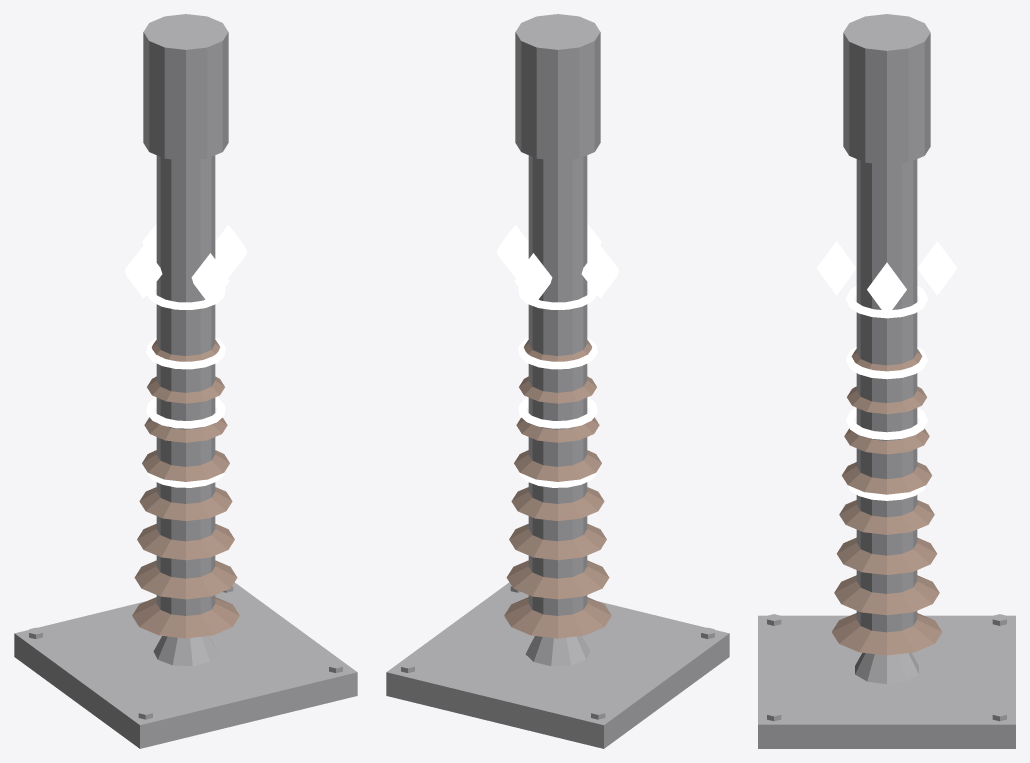
Rendered from drill_bit_mythic.glb.
3 views of the same model, side by side, from view 1: azimuth 30°, elevation 25°; view 2: azimuth 150°, elevation 25°; view 3: azimuth 270°, elevation 25° (orthographic). The views are drawn at different scales.
Visible parts, largest first — view 1: drill_bit; view 2: drill_bit; view 3: drill_bit.
Part boxes in pixels (x1,y1,x2,y2): drill_bit: (14, 14, 357, 748); drill_bit: (386, 14, 729, 748); drill_bit: (758, 14, 1015, 748).
Size of the model in its own units: 1.54 by 4.35 by 1.54.
